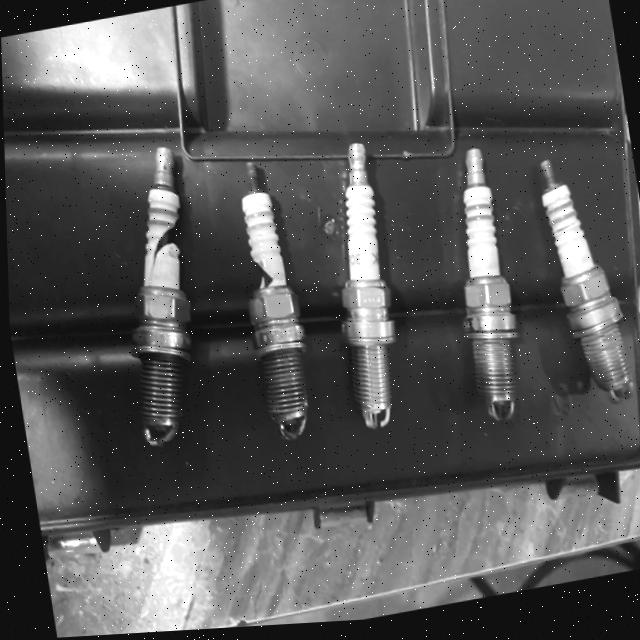damaged_spark-plug: (91, 142, 222, 447), (223, 150, 316, 456)
spark-plug: (513, 137, 637, 425), (307, 130, 407, 435), (432, 132, 526, 427)
